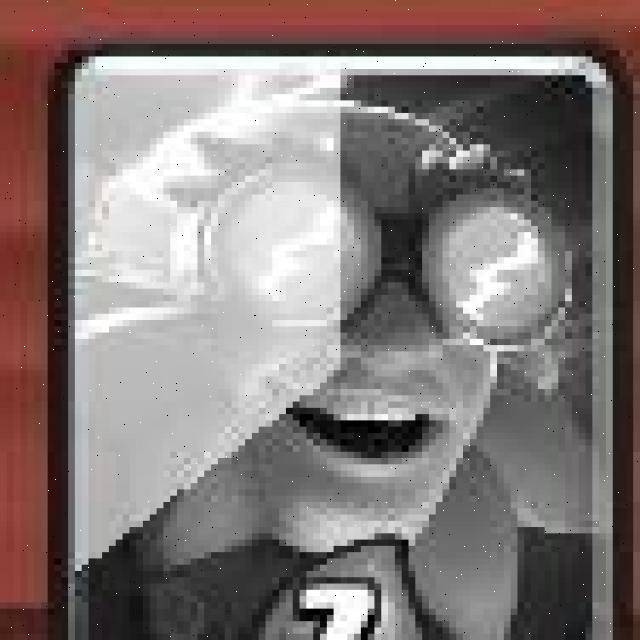Electro_Giant: (47, 43, 630, 640)
